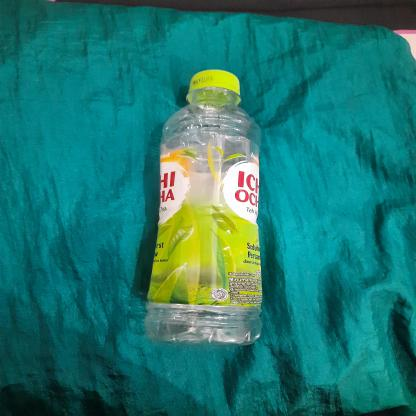bottle: (141, 66, 269, 348)
